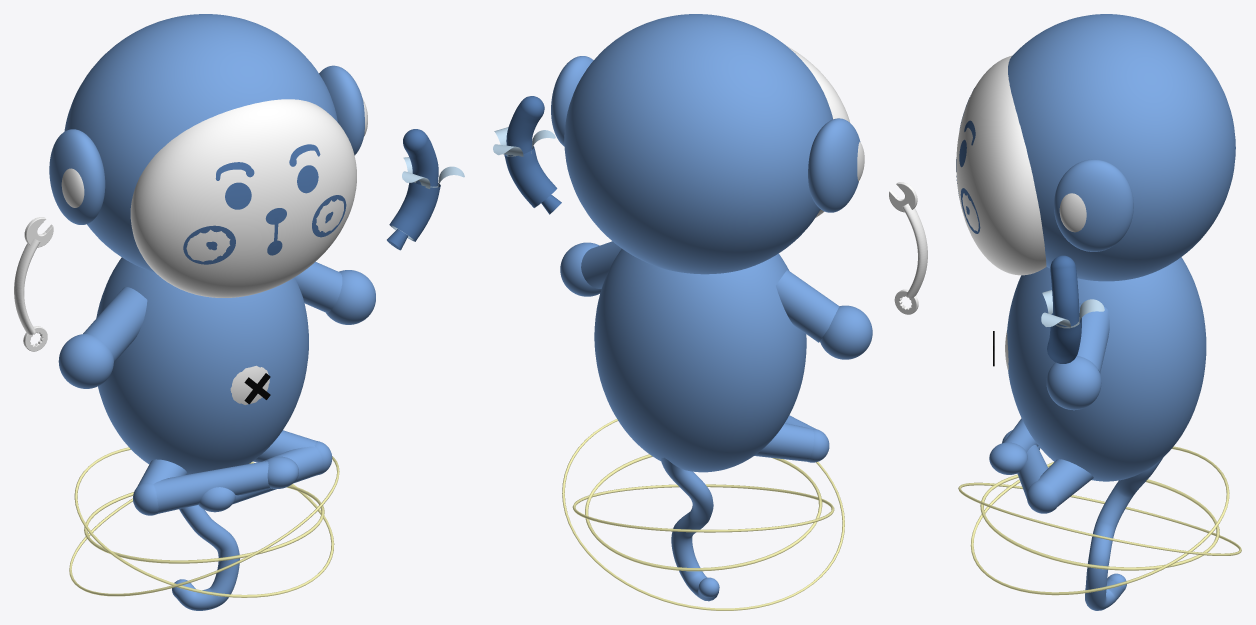
Rendered from monchu.fbx.
3 renders of one model, left to right at view 1: azimuth 30°, elevation 25°; view 2: azimuth 150°, elevation 25°; view 3: azimuth 270°, elevation 25°, orthographic.
Parts seen in each view (by area): view 1: Monchu; view 2: Monchu; view 3: Monchu.
Boxes of the visible parts, x1,y1,x2,y2 form: Monchu: (14, 14, 464, 610); Monchu: (493, 14, 927, 610); Monchu: (956, 14, 1241, 610).
Size of the model in its own units: 4.08 by 5.12 by 2.29.
